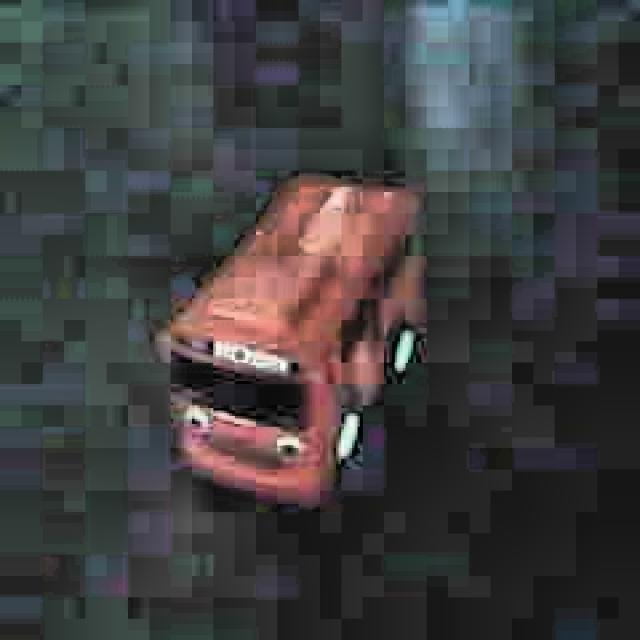bus: (142, 155, 438, 528)
